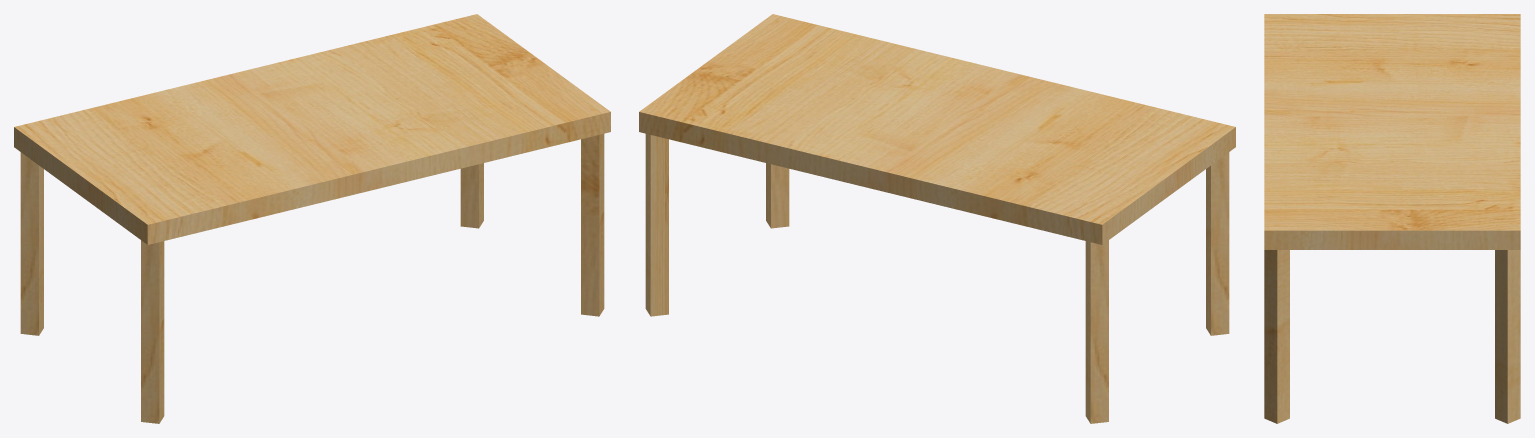
File: coffee_table_01.obj
3 views of the same model, side by side, from view 1: azimuth 30°, elevation 25°; view 2: azimuth 150°, elevation 25°; view 3: azimuth 270°, elevation 25° (orthographic). The views are drawn at different scales.
Bounding box in the file's own units: 1.2 × 0.5 × 0.6.
Materials: 1 (1 with a texture image).
